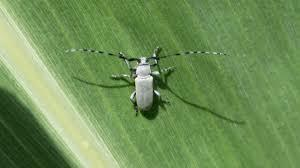insect: (63, 43, 232, 121)
